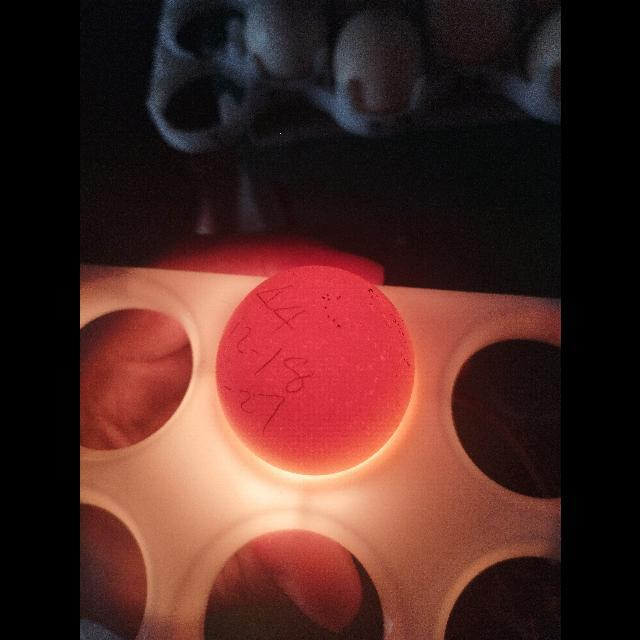A - Good: (212, 262, 420, 482)
